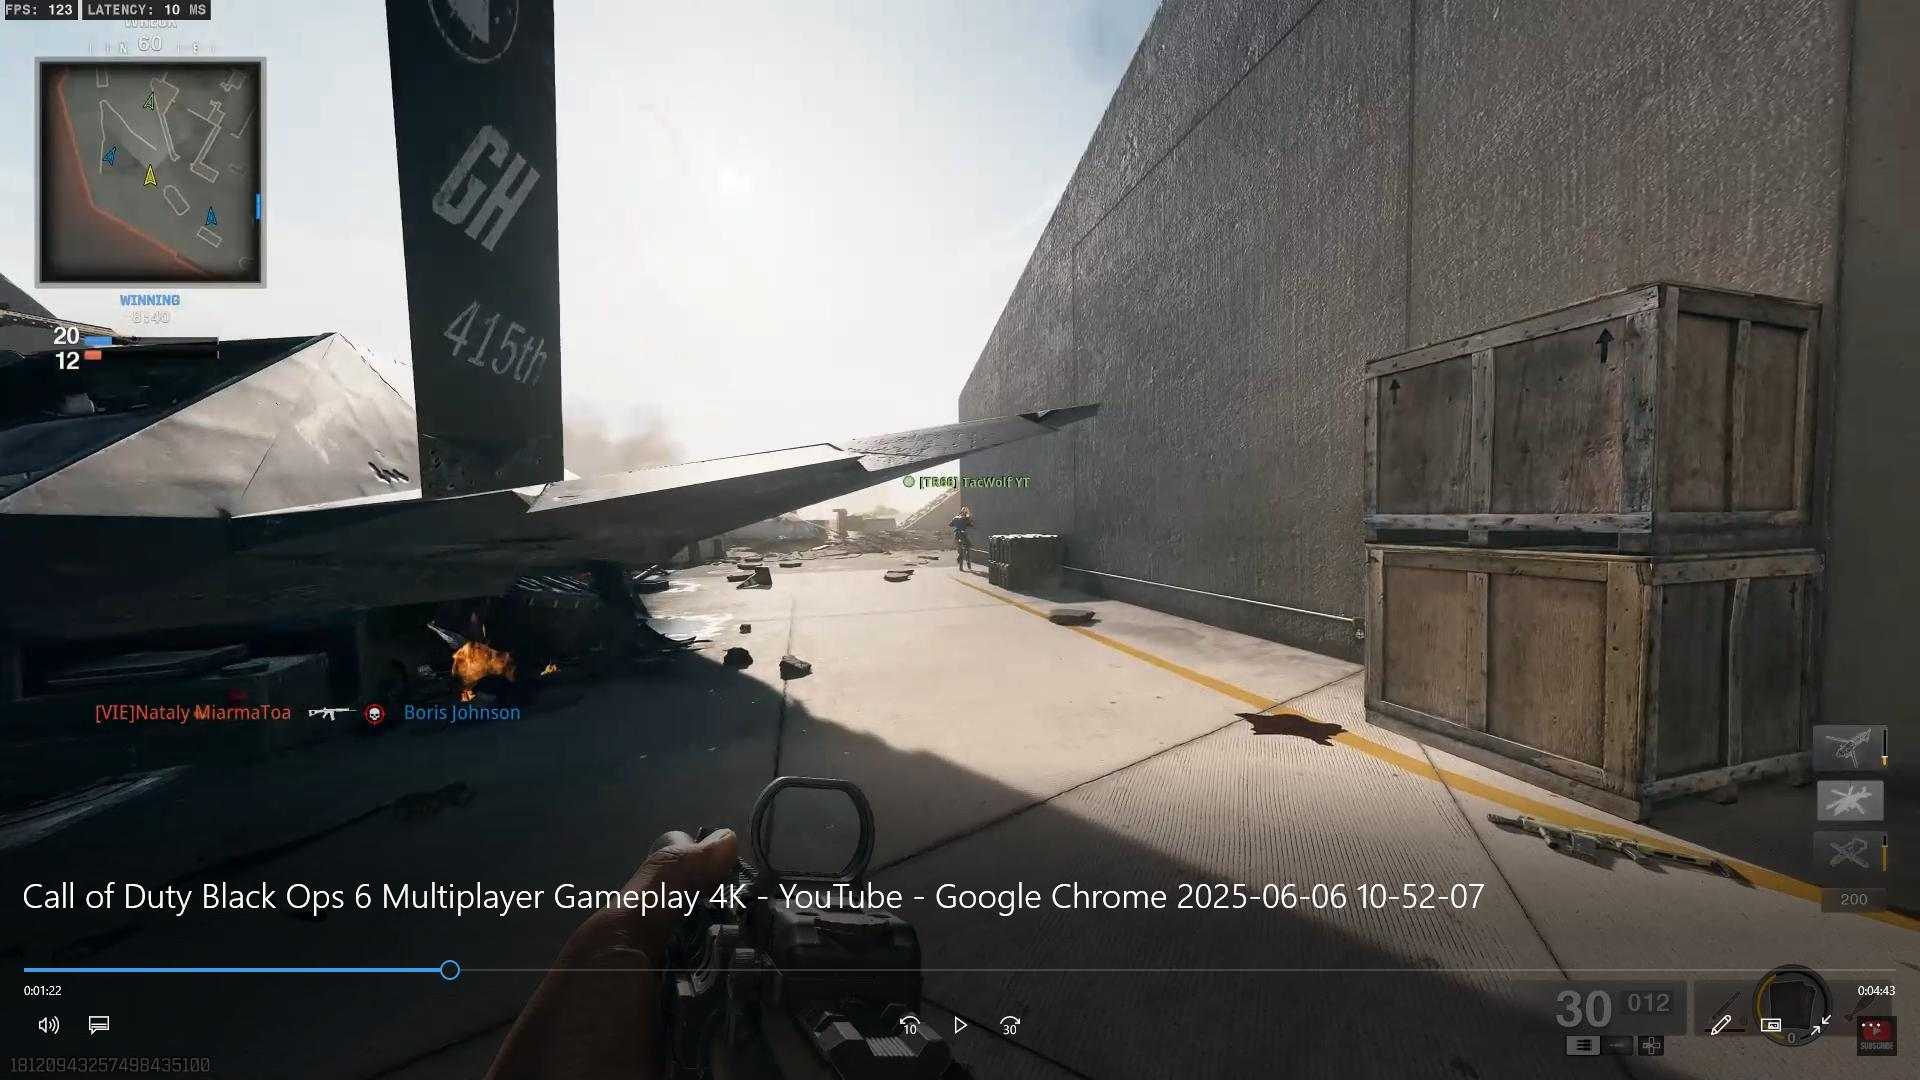Enemy: (938, 498, 990, 580)
